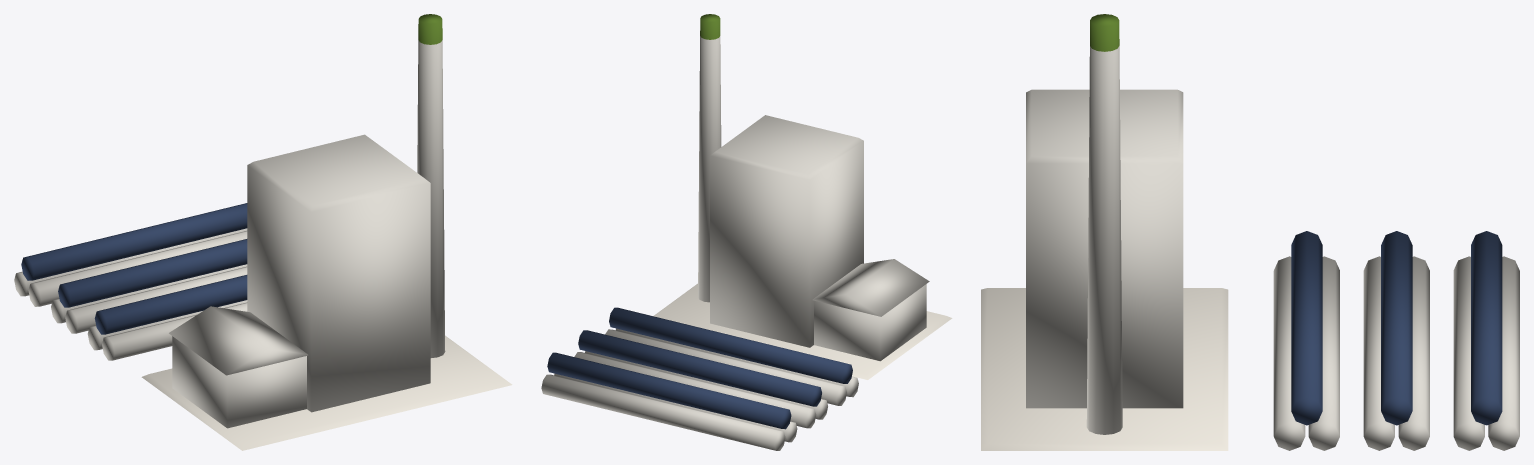
File: biomassa.glb
3 views of the same model, side by side, from view 1: azimuth 30°, elevation 25°; view 2: azimuth 150°, elevation 25°; view 3: azimuth 270°, elevation 25° (orthographic). The views are drawn at different scales.
Parts seen in each view (by area): view 1: biomassa; view 2: biomassa; view 3: biomassa.
Part boxes in pixels (bbox=[...]): biomassa: bbox=[14, 14, 512, 450]; biomassa: bbox=[541, 14, 952, 450]; biomassa: bbox=[981, 14, 1519, 450].
Size of the model in its own units: 70 by 80.9 by 95.9.
